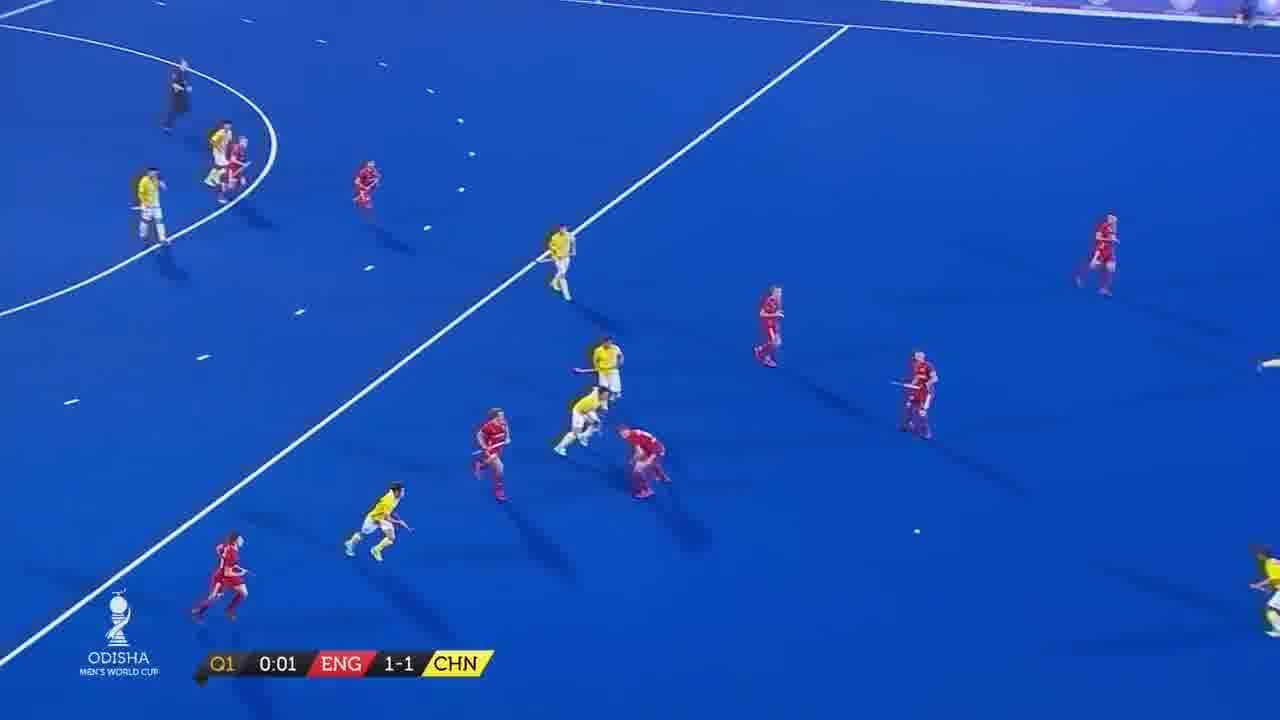ball: (910, 526, 924, 538)
